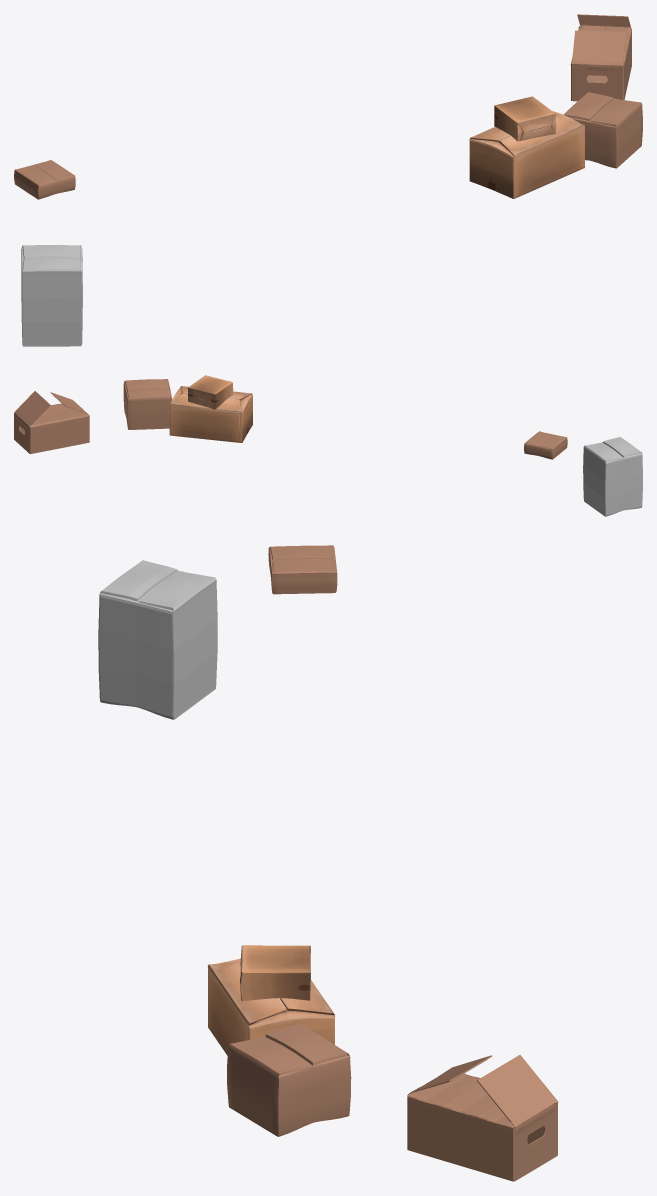
File: MDL_Video_Boxes_01.fbx
3 renders of one model, top to bottom at view 1: azimuth 30°, elevation 25°; view 2: azimuth 150°, elevation 25°; view 3: azimuth 270°, elevation 25°, orthographic. The views are drawn at different scales.
Parts seen in each view (by area): view 1: MDL_Box_04.007, MDL_Box_02.001, MDL_Mainbox_halfopen.004, MDL_Box_01.008, MDL_Box_03.008, MDL_Box_01.007; view 2: MDL_Box_02.001, MDL_Mainbox_halfopen.004, MDL_Box_01.008, MDL_Box_04.006, MDL_Box_04.007, MDL_Box_03.008, MDL_Box_01.007; view 3: MDL_Box_02.001, MDL_Mainbox_halfopen.004, MDL_Box_01.008, MDL_Box_04.007, MDL_Box_03.008, MDL_Box_01.007.
Part boxes in pixels (x1,y1,x2,y2): MDL_Box_04.007: (469, 111, 584, 198); MDL_Box_02.001: (21, 245, 82, 346); MDL_Mainbox_halfopen.004: (570, 14, 631, 101); MDL_Box_01.008: (564, 92, 642, 168); MDL_Box_03.008: (494, 96, 556, 141); MDL_Box_01.007: (14, 160, 75, 199); MDL_Box_02.001: (583, 437, 642, 516); MDL_Mainbox_halfopen.004: (14, 391, 89, 453); MDL_Box_01.008: (123, 379, 172, 429); MDL_Box_04.006: (177, 406, 239, 441); MDL_Box_04.007: (169, 386, 252, 442); MDL_Box_03.008: (187, 375, 233, 409); MDL_Box_01.007: (524, 431, 567, 459); MDL_Box_02.001: (98, 560, 217, 719); MDL_Mainbox_halfopen.004: (407, 1055, 558, 1181); MDL_Box_01.008: (227, 1023, 351, 1136); MDL_Box_04.007: (207, 958, 335, 1055); MDL_Box_03.008: (240, 945, 310, 1001); MDL_Box_01.007: (268, 545, 337, 594).
Bounding box in the file's own units: 691 × 103 × 257.
